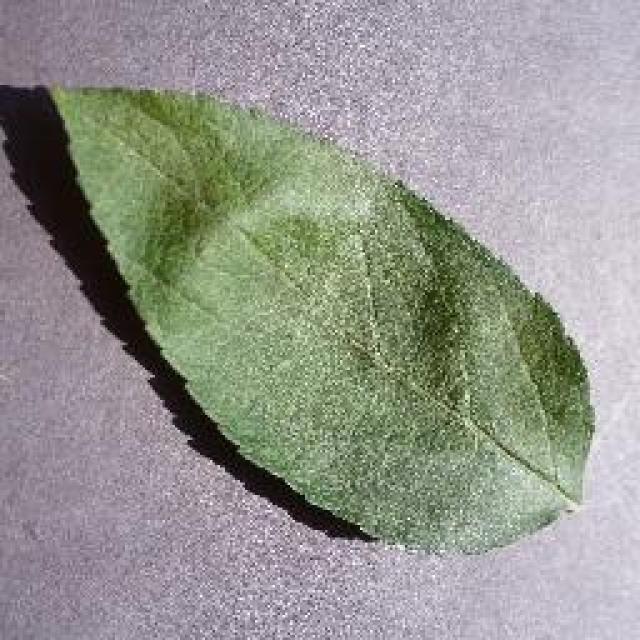Apple___healthy: (62, 92, 588, 560)
